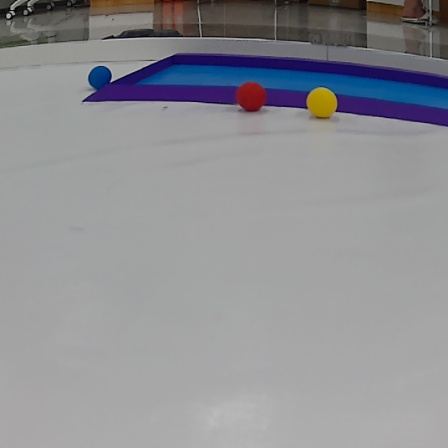blue: (82, 61, 114, 93)
blue_aim: (79, 53, 448, 129)
red: (234, 78, 270, 116)
yellow: (306, 83, 339, 119)
